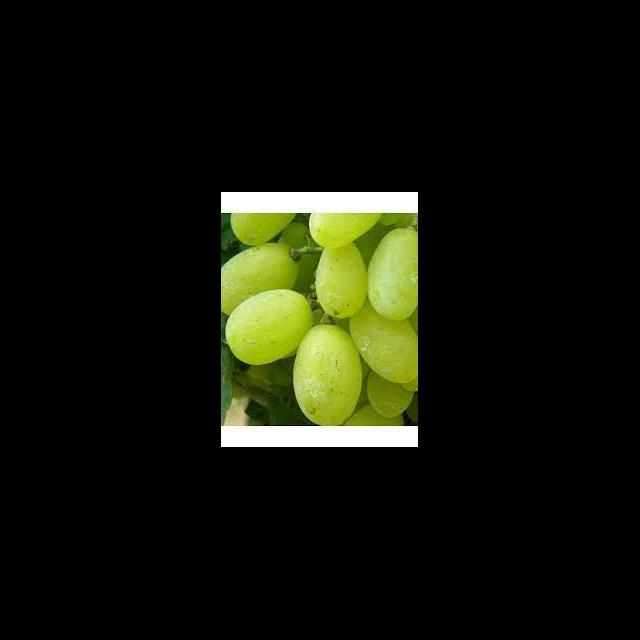grape: (222, 212, 418, 426)
